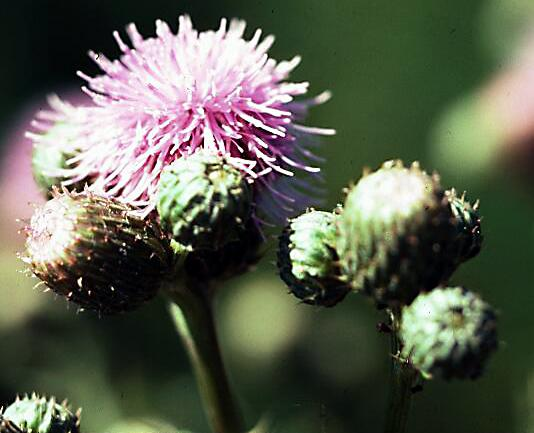thistle: (74, 32, 330, 216)
